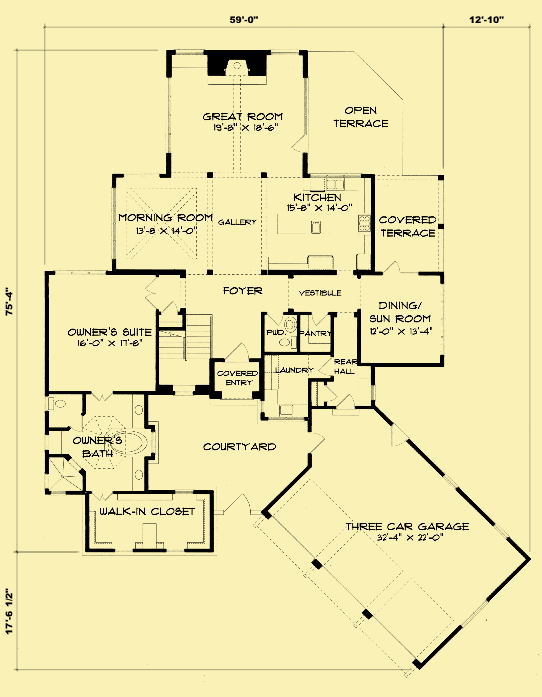bathroom has a small and large sink: (261, 312, 303, 354)
kitchen is having a counter, sink and cooking range: (255, 171, 375, 280)
laundry room is with washer and dryer: (258, 352, 329, 423)
stairs to the other floors: (153, 306, 215, 395)
this is a large garage with three car space: (268, 423, 535, 658)
this master bathroom has a large sink, tub, dual sinks and walk in closet: (43, 393, 213, 554)
